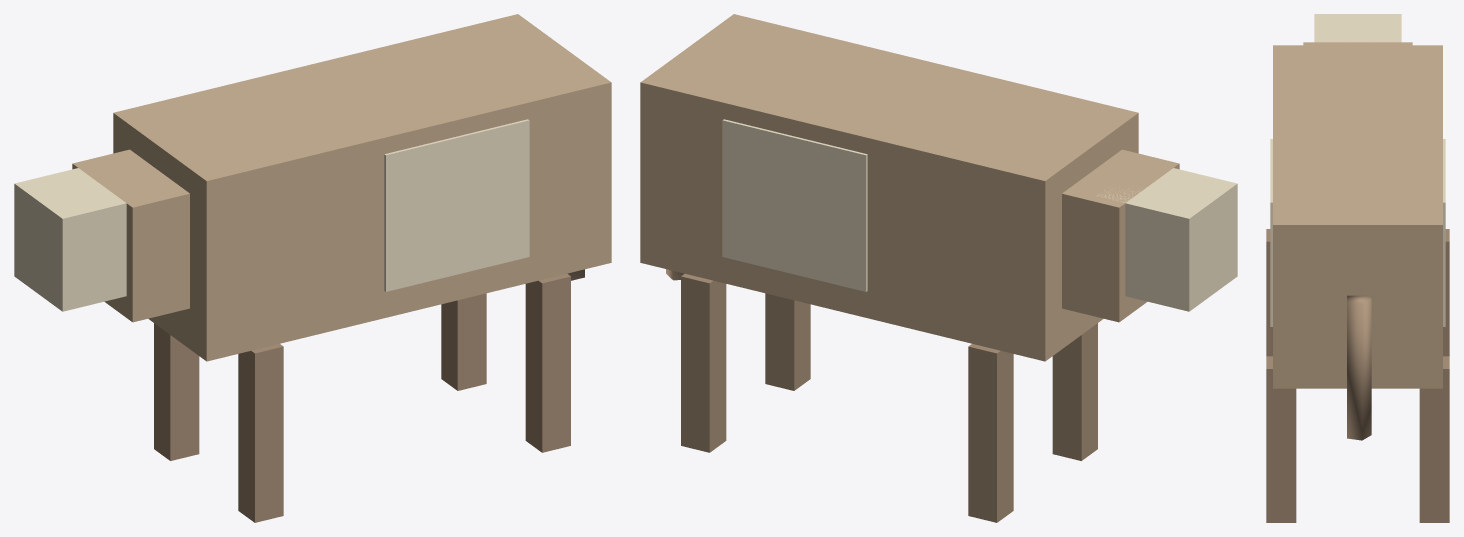
File: cow.glb
3 views of the same model, side by side, from view 1: azimuth 30°, elevation 25°; view 2: azimuth 150°, elevation 25°; view 3: azimuth 270°, elevation 25° (orthographic). The views are drawn at different scales.
Parts seen in each view (by area): view 1: cow_hide, cow_pale, cow_hide-dark; view 2: cow_hide, cow_pale, cow_hide-dark; view 3: cow_hide, cow_hide-dark, cow_pale.
Boxes of the visible parts, left/top/right/bottom form: cow_hide: left=72, top=14, right=611, bottom=361; cow_pale: left=14, top=119, right=529, bottom=311; cow_hide-dark: left=154, top=269, right=584, bottom=522; cow_hide: left=640, top=14, right=1179, bottom=361; cow_pale: left=722, top=119, right=1237, bottom=311; cow_hide-dark: left=666, top=269, right=1097, bottom=522; cow_hide: left=1273, top=42, right=1442, bottom=388; cow_hide-dark: left=1266, top=229, right=1449, bottom=522; cow_pale: left=1270, top=14, right=1445, bottom=326.
Size of the model in its own units: 0.6959 by 0.4267 by 0.2233.
